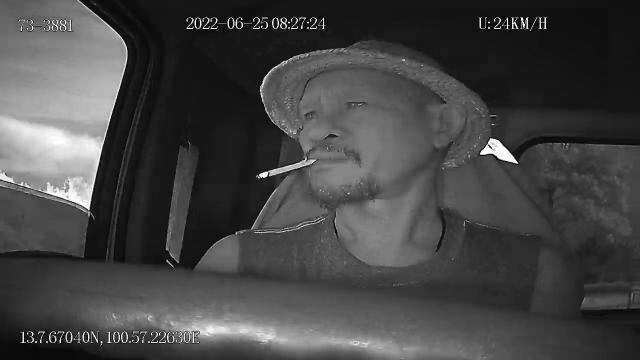SafeDriving: (4, 0, 92, 43), (340, 92, 374, 114), (297, 103, 324, 124)
Smoking: (254, 156, 318, 178)
